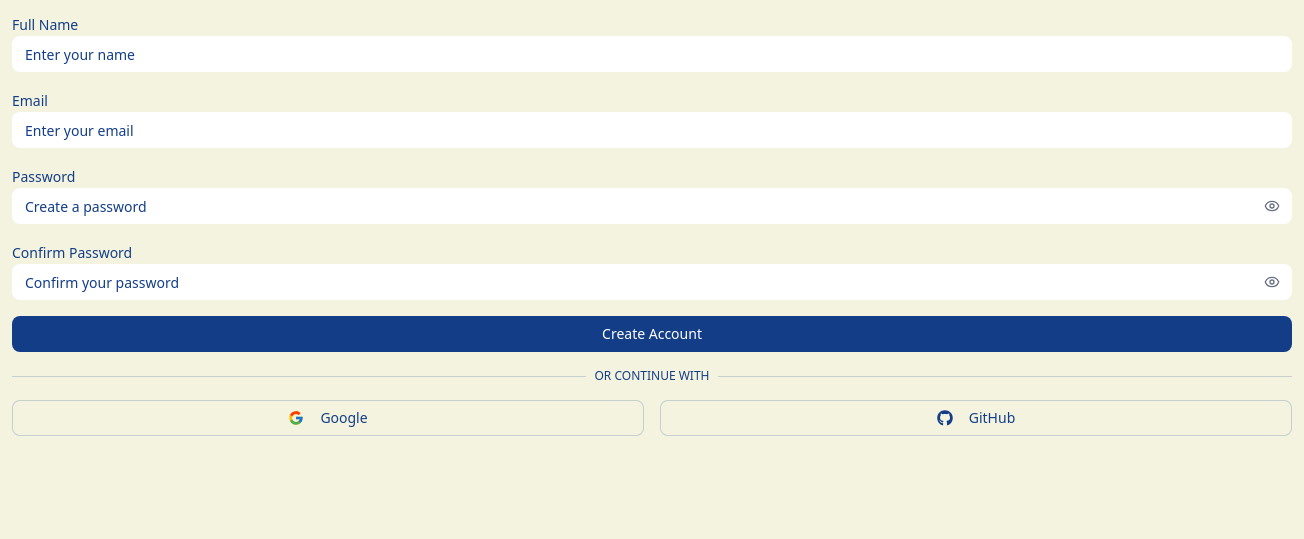
SignupForm Component › rate-limit with no remainingTime falls back to 120s cooldown
The image size is (1304, 539).
Type "Fallback User" into the field with placeholder "Enter your name". click: (652, 54)
box: [12, 36, 1292, 72]
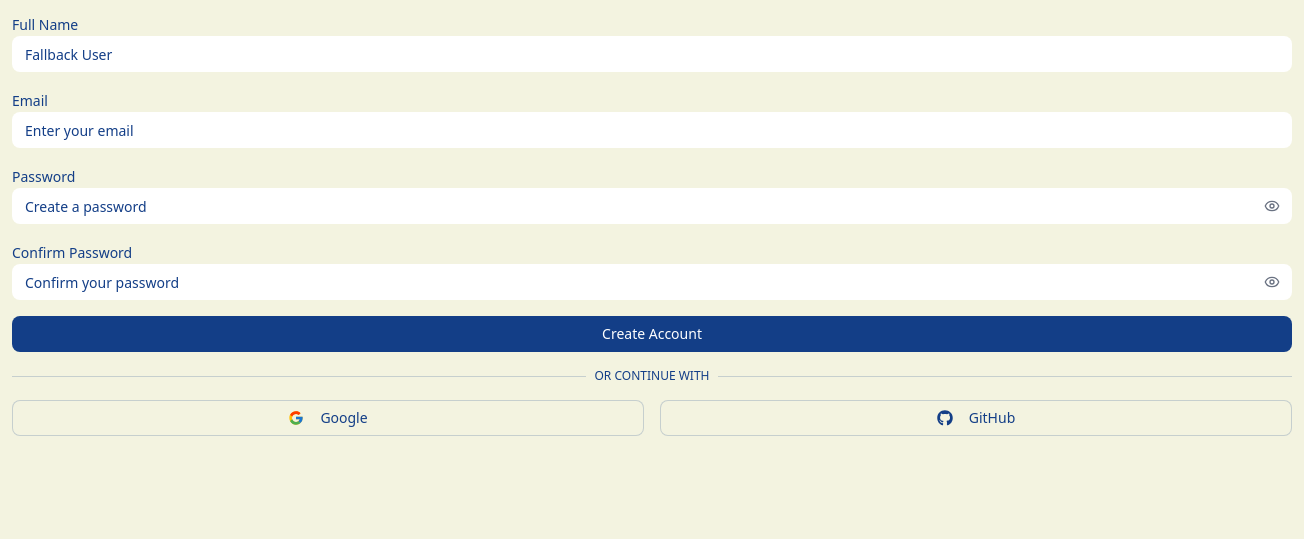
Type "fallback@example.com" into the field with placeholder "Enter your email". click: (652, 130)
box: [12, 112, 1292, 148]
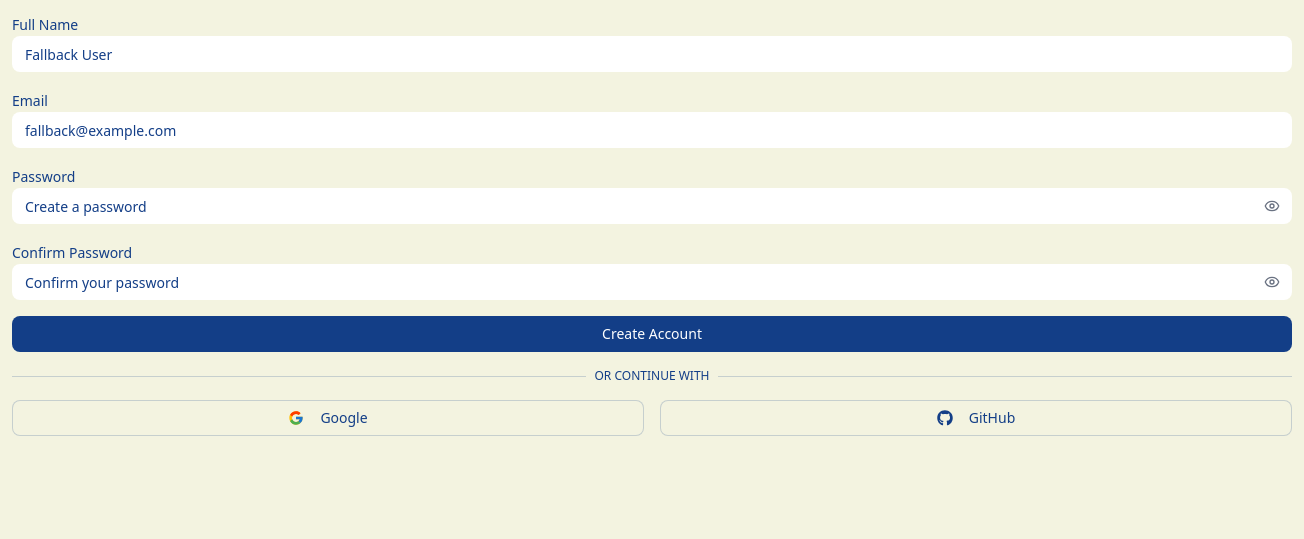
Type "password123" into the password field with placeholder "Create a password". click: (652, 206)
box: [12, 188, 1292, 224]
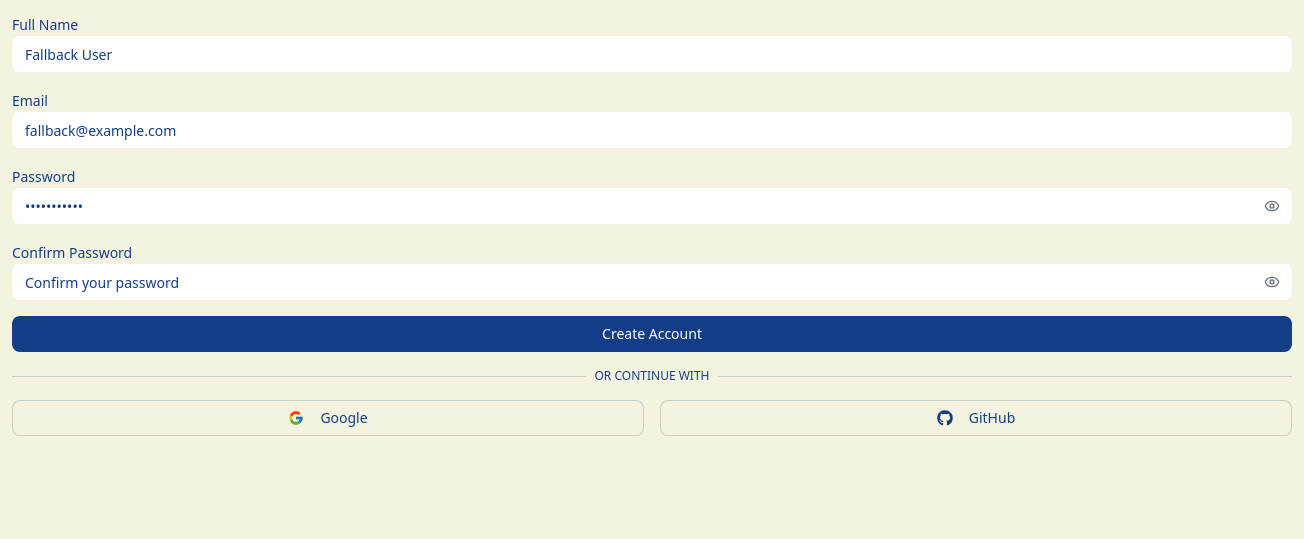
Type "password123" into the password field with placeholder "Confirm your password". click: (652, 282)
box: [12, 264, 1292, 300]
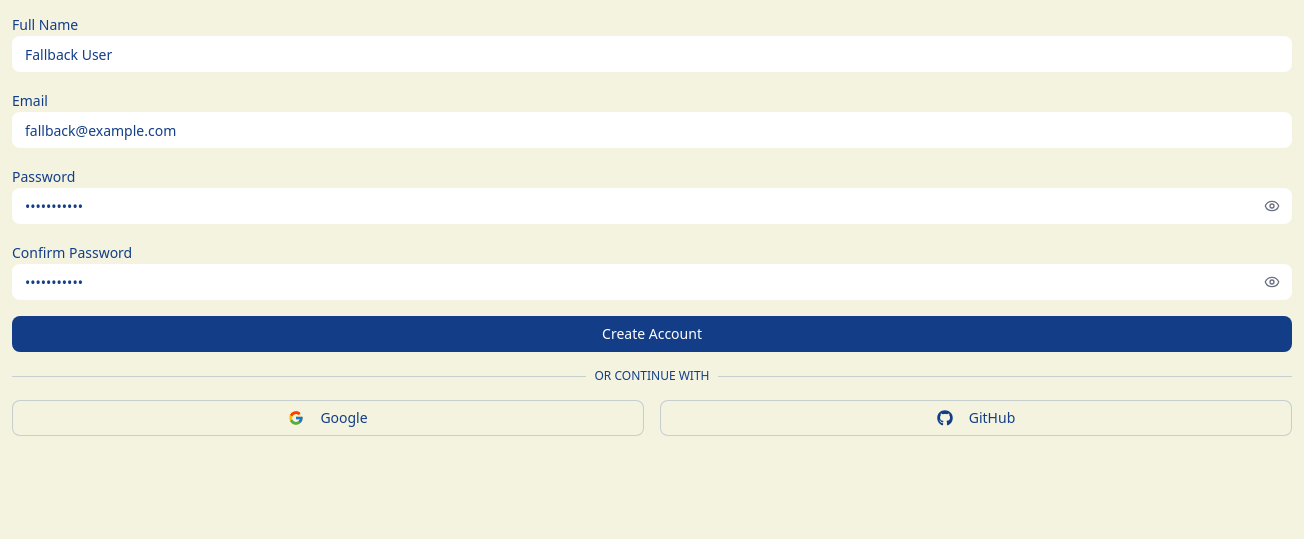
Click the button "Create Account". click: (652, 334)
box: [12, 316, 1292, 352]
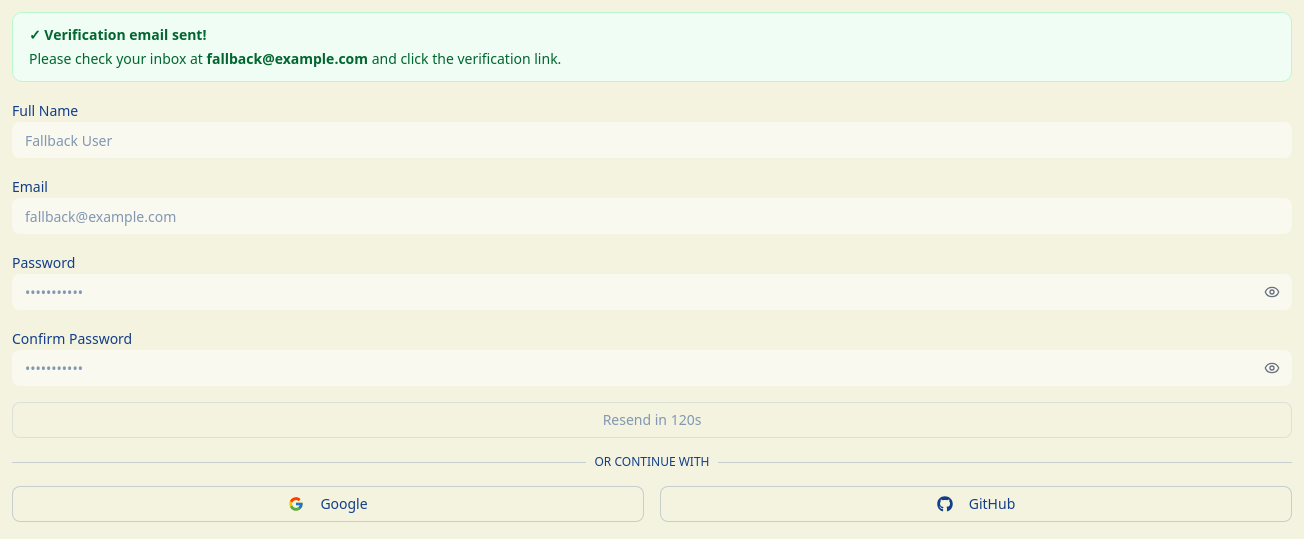
Check: the text "✓ Verification email sent!" is shown, box [29, 25, 206, 44]
Check: the button "Resend in 120s" is disabled, box [12, 402, 1292, 438]
